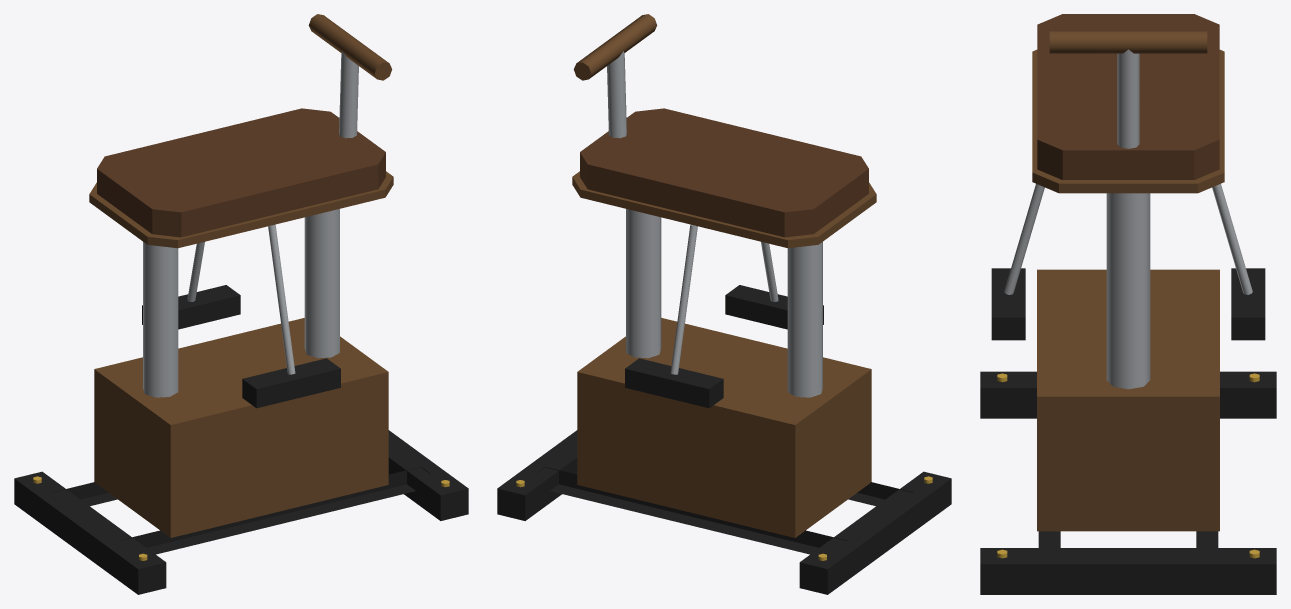
The picture shows the model from 3 angles, left to right: view 1: azimuth 30°, elevation 25°; view 2: azimuth 150°, elevation 25°; view 3: azimuth 270°, elevation 25°; orthographic projection. The views are drawn at different scales.
Parts seen in each view (by area): view 1: parametric-variant-machine-1st-pub-474eeb0c5fa03b5b916a; view 2: parametric-variant-machine-1st-pub-474eeb0c5fa03b5b916a; view 3: parametric-variant-machine-1st-pub-474eeb0c5fa03b5b916a.
Boxes of the visible parts, x1,y1,x2,y2 form: parametric-variant-machine-1st-pub-474eeb0c5fa03b5b916a: [14, 14, 468, 594]; parametric-variant-machine-1st-pub-474eeb0c5fa03b5b916a: [497, 14, 951, 594]; parametric-variant-machine-1st-pub-474eeb0c5fa03b5b916a: [980, 14, 1276, 594].
Bounding box in the file's own units: 0.94 × 1.21 × 0.611.
